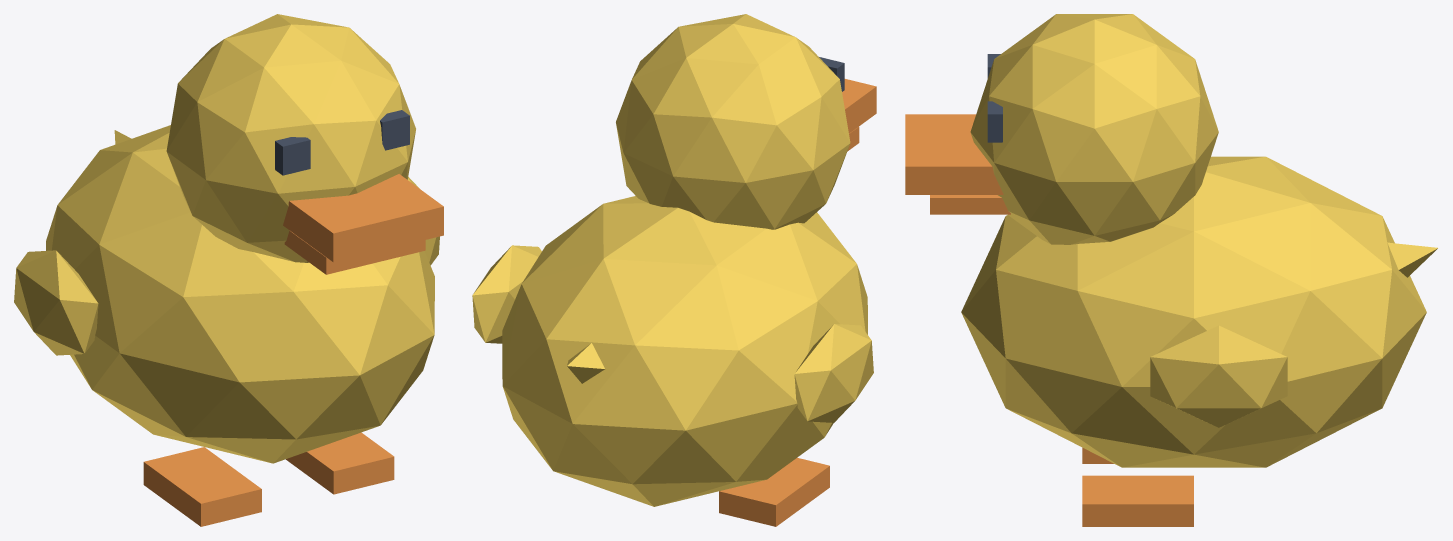
Rendered from duck.glb.
The picture shows the model from 3 angles, left to right: view 1: azimuth 30°, elevation 25°; view 2: azimuth 150°, elevation 25°; view 3: azimuth 270°, elevation 25°; orthographic projection. The views are drawn at different scales.
Visible parts, largest first — view 1: body.002, head.002, wing_l; view 2: body.002, head.002, wing_l, wing_r; view 3: body.002, head.002, wing_r.
Part boxes in pixels (x1,y1,x2,y2): body.002: (46,125,434,526); head.002: (166,14,443,274); wing_l: (14,250,98,355); body.002: (502,196,867,526); head.002: (616,14,876,229); wing_l: (794,324,873,422); wing_r: (472,245,541,343); body.002: (961,156,1437,526); head.002: (905,14,1218,244); wing_r: (1150,325,1287,427).
Size of the model in its own units: 0.7014 by 0.82 by 0.859.
